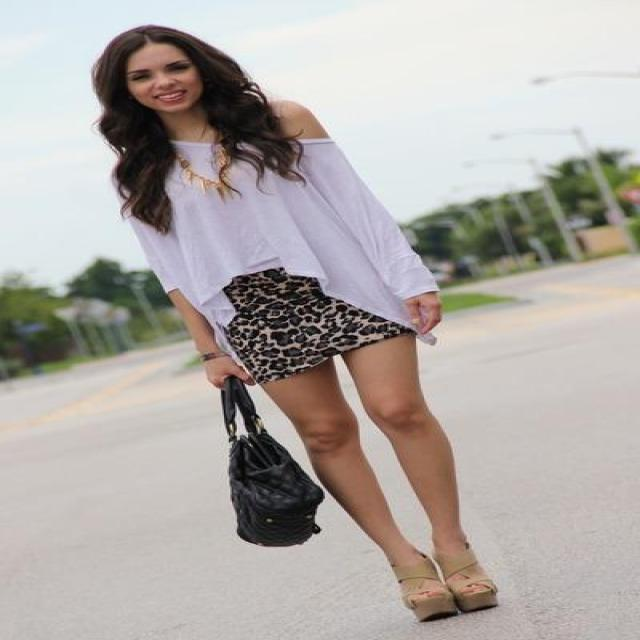bag: (216, 373, 323, 546)
shirt: (134, 132, 438, 340)
shoe: (403, 563, 496, 622)
skirt: (222, 269, 402, 396)
